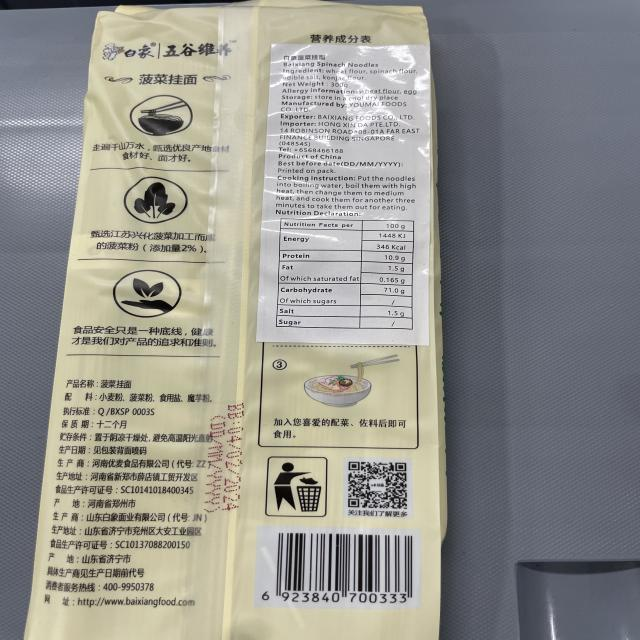object_name: (64, 8, 424, 640)
